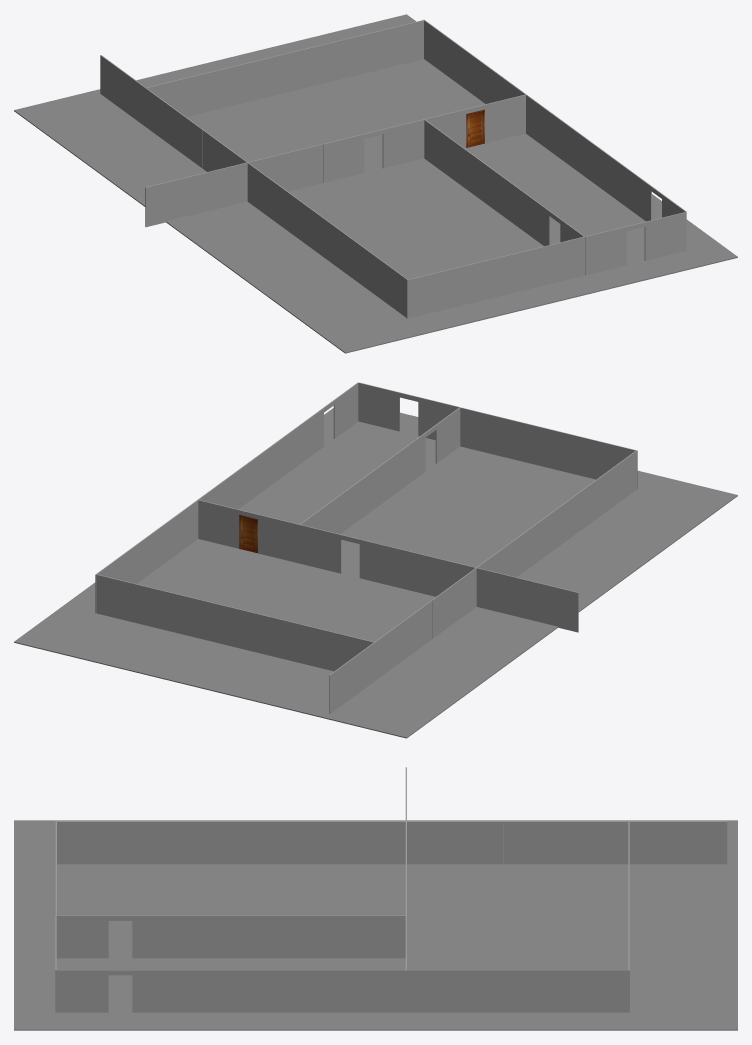
3 renders of one model, top to bottom at view 1: azimuth 30°, elevation 25°; view 2: azimuth 150°, elevation 25°; view 3: azimuth 270°, elevation 25°, orthographic. The views are drawn at different scales.
Parts seen in each view (by area): view 1: floor03, longwall8, longwall3, longwall4, longwall9, longwall2, longwall1, longwall5, wall_w_door7, wall_w_door8, longwall6, longwall7 (+4 smaller); view 2: floor03, longwall8, longwall4, longwall3, longwall9, longwall5, wall_w_door7, longwall7, longwall2, longwall6, longwall1, wall_w_door8 (+4 smaller); view 3: floor03, longwall9, longwall6, longwall5, longwall2, longwall1, longwall7, wall_w_door10, wall_w_door9.
Boxes of the visible parts, x1,y1,x2,y2 form: floor03: [14, 14, 737, 353]; longwall8: [146, 20, 424, 116]; longwall3: [406, 236, 584, 318]; longwall4: [145, 144, 322, 227]; longwall9: [100, 55, 203, 168]; longwall2: [424, 119, 526, 232]; longwall1: [526, 94, 628, 207]; longwall5: [305, 205, 407, 317]; wall_w_door7: [323, 119, 424, 182]; wall_w_door8: [585, 212, 686, 275]; longwall6: [203, 130, 305, 243]; longwall7: [423, 19, 525, 103]; floor03: [14, 408, 737, 738]; longwall8: [96, 574, 373, 671]; longwall4: [401, 549, 578, 632]; longwall3: [460, 407, 637, 489]; longwall9: [329, 600, 432, 713]; longwall5: [534, 450, 636, 563]; wall_w_door7: [300, 524, 400, 588]; longwall7: [95, 500, 198, 613]; longwall2: [299, 450, 402, 563]; longwall6: [432, 525, 534, 638]; longwall1: [197, 425, 300, 509]; wall_w_door8: [358, 382, 459, 440]; floor03: [14, 820, 737, 1030]; longwall9: [503, 821, 727, 864]; longwall6: [279, 821, 503, 864]; longwall5: [57, 821, 279, 864]; longwall2: [183, 915, 406, 958]; longwall1: [183, 970, 406, 1012]; longwall7: [406, 970, 629, 1012]; wall_w_door10: [56, 915, 183, 958]; wall_w_door9: [56, 970, 184, 1012].
Size of the model in its own units: 430 by 39.48 by 598.
